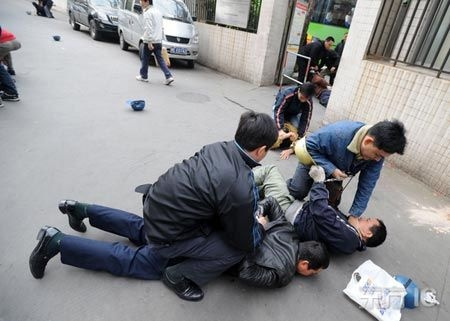falling: (48, 198, 354, 289)
